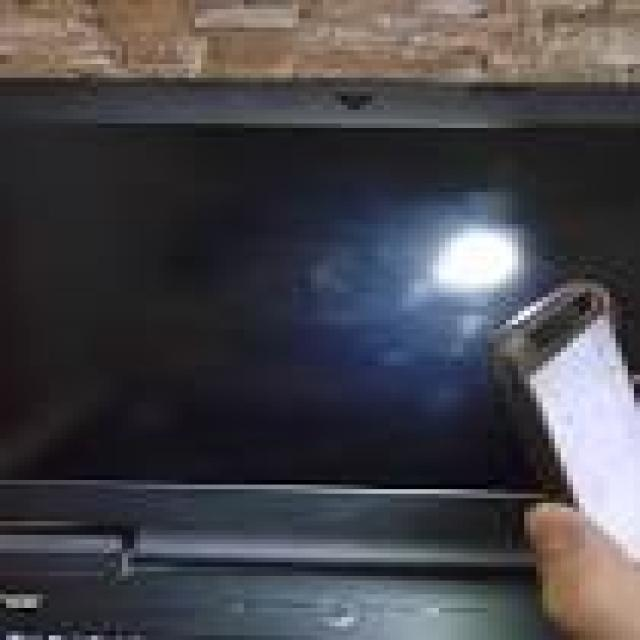other: (409, 215, 541, 306)
